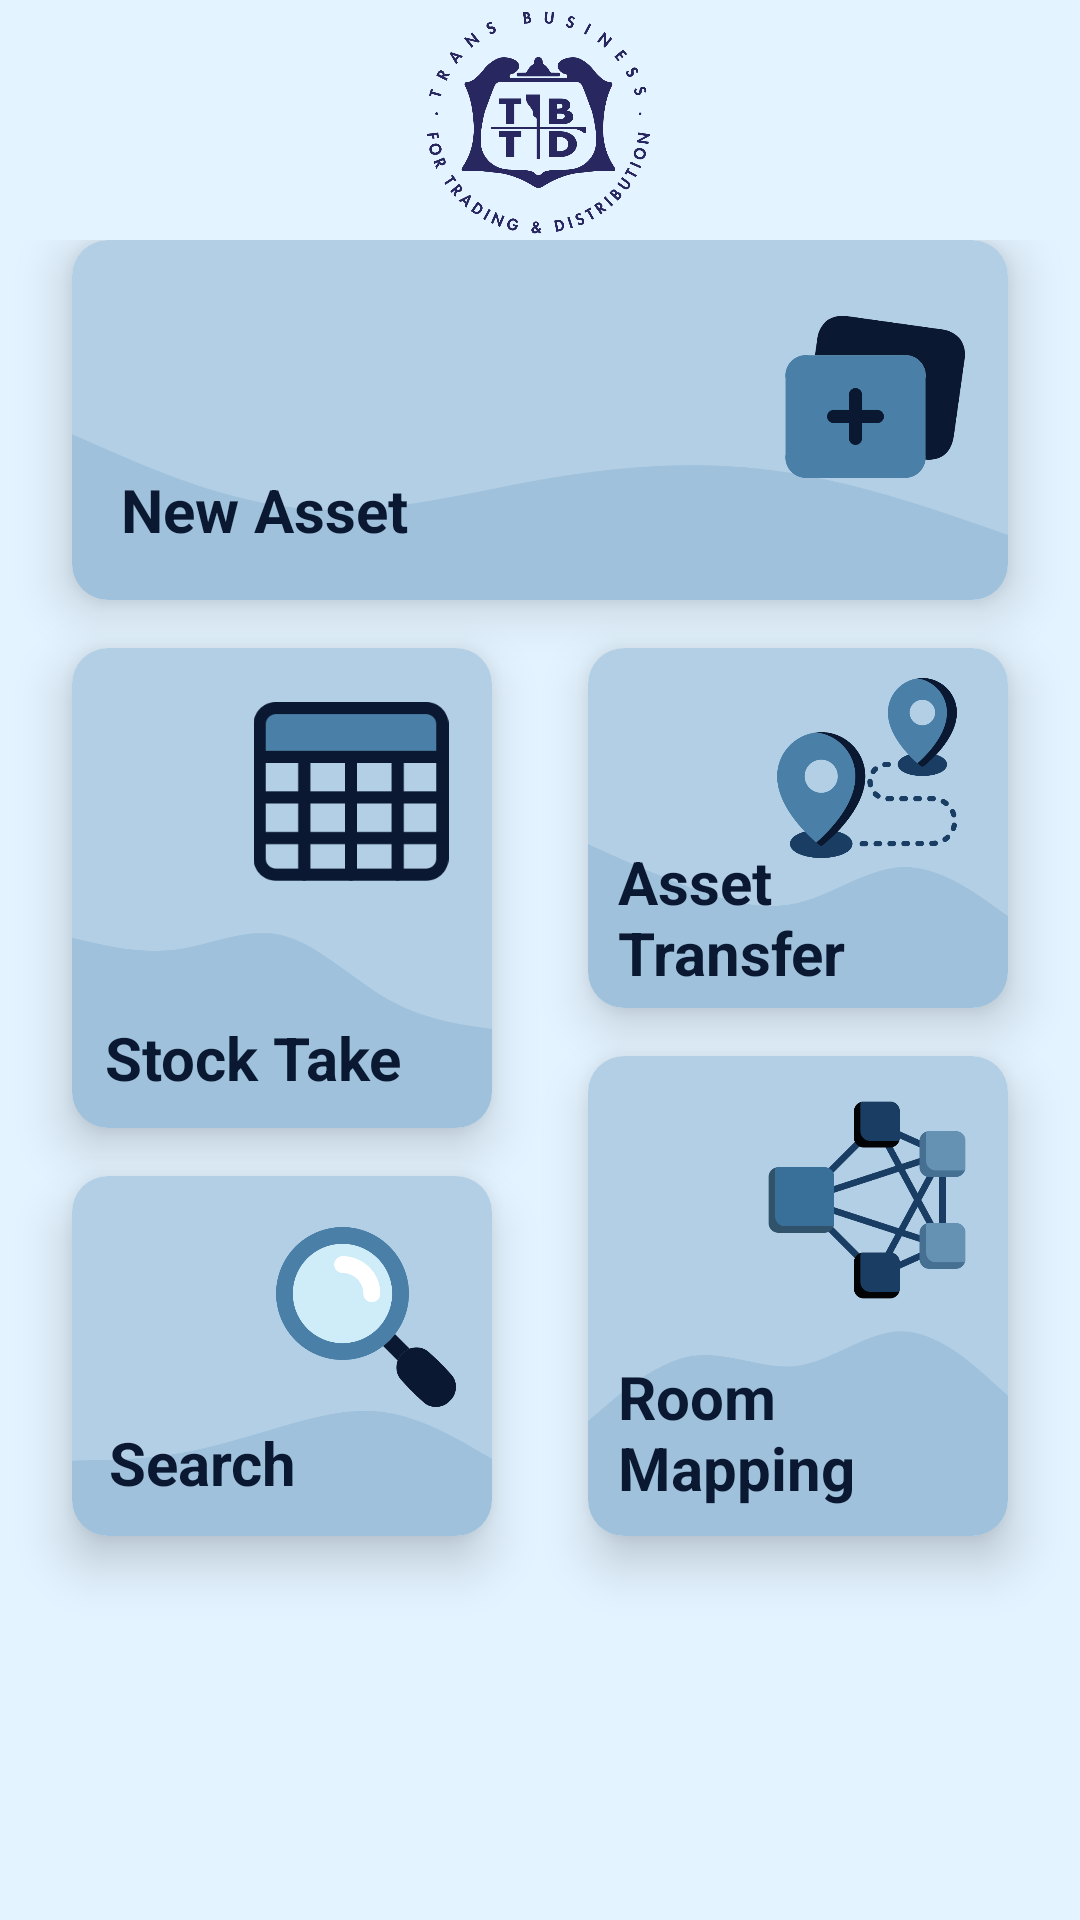

Icons on this 1080*1920 Android screen, each with the point to tap as point (x, y):
register: point (875, 397)
stoctakee: point (351, 791)
